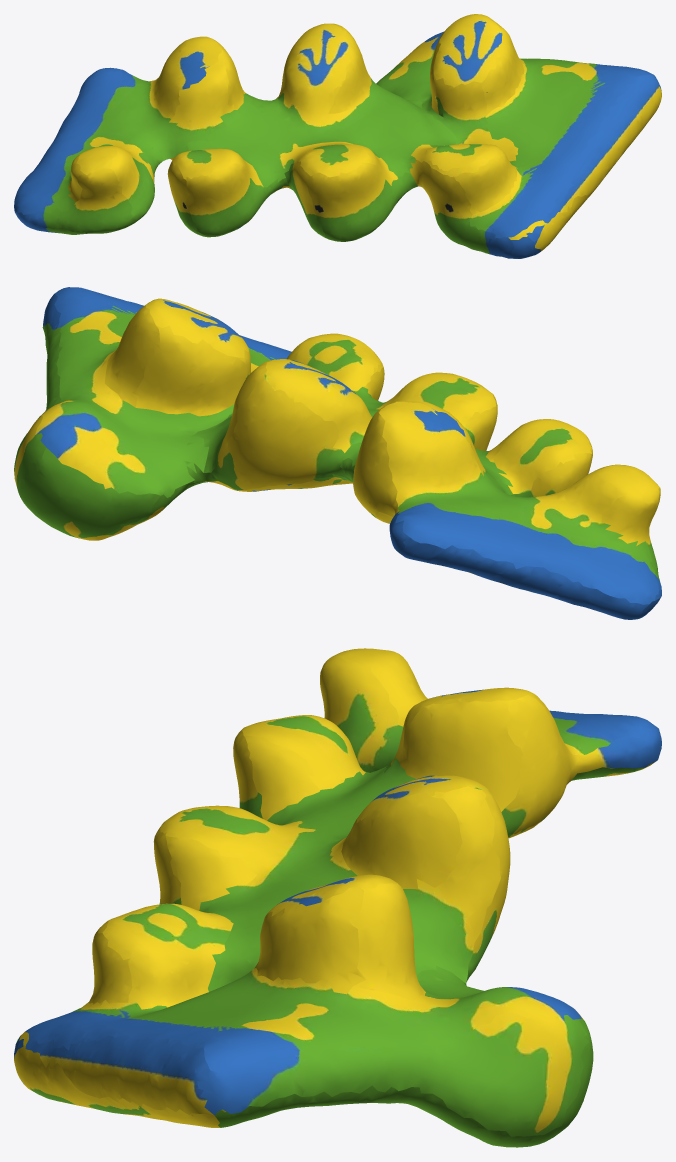
Rendered from quickjump-l.glb.
The picture shows the model from 3 angles, top to bottom: view 1: azimuth 30°, elevation 25°; view 2: azimuth 150°, elevation 25°; view 3: azimuth 270°, elevation 25°; orthographic projection. The views are drawn at different scales.
Parts seen in each view (by area): view 1: geometry_0; view 2: geometry_0; view 3: geometry_0.
Boxes of the visible parts, left/top/right/bottom form: geometry_0: left=14, top=14, right=661, bottom=258; geometry_0: left=14, top=287, right=661, bottom=619; geometry_0: left=14, top=648, right=661, bottom=1147.
Size of the model in its own units: 1.09 by 0.2826 by 0.6632.
1 material, 1 textured.
